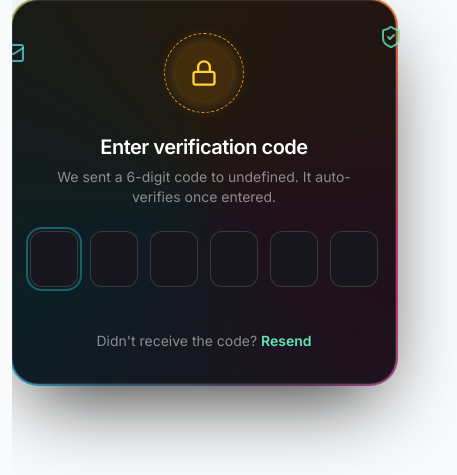
OtpVerification › shows the error message and resets boxes on a failed verify
The width and height of the screenshot is (457, 475).
Type "0" into the field named "Digit 1 of 6 verification code". click: (54, 259)
box: [30,231,78,287]
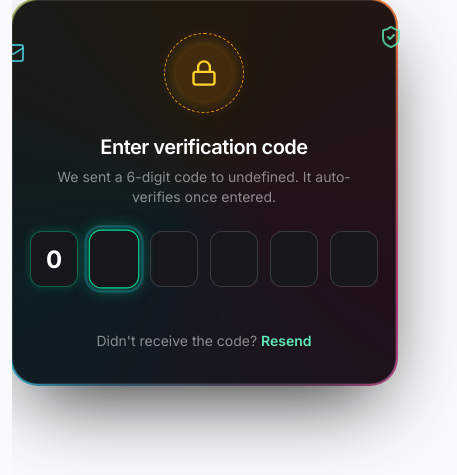
Type "0" into the field named "Digit 2 of 6 verification code". click: (114, 259)
box: [89,230,139,288]
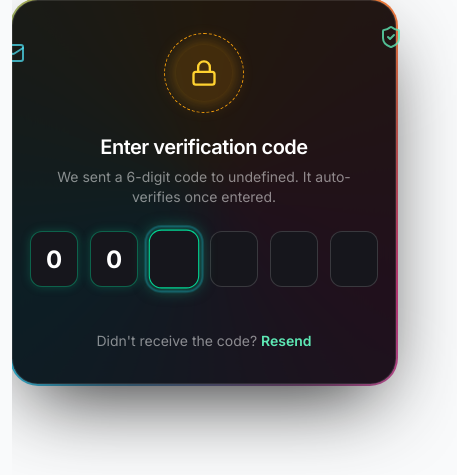
Type "0" into the field named "Digit 3 of 6 verification code". click: (174, 259)
box: [149,230,199,288]
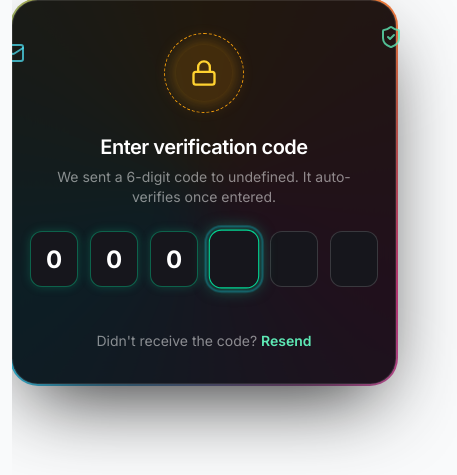
Type "0" into the field named "Digit 4 of 6 verification code". click: (234, 259)
box: [209,230,259,288]
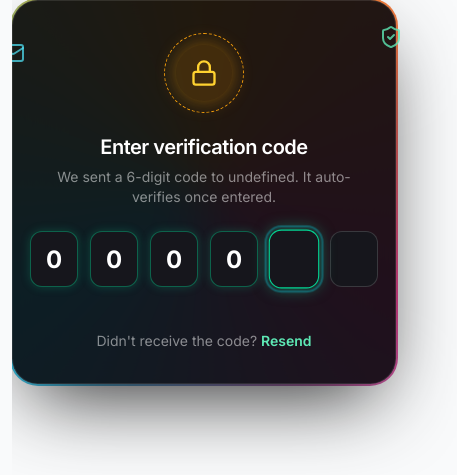
Type "0" into the field named "Digit 5 of 6 verification code". click: (294, 259)
box: [269,230,319,288]
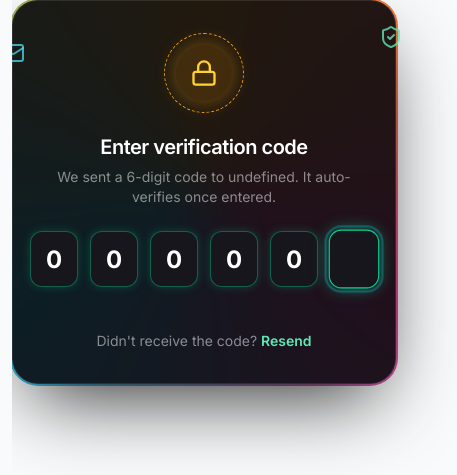
Type "0" into the field named "Digit 6 of 6 verification code". click: (354, 259)
box: [329,230,379,288]
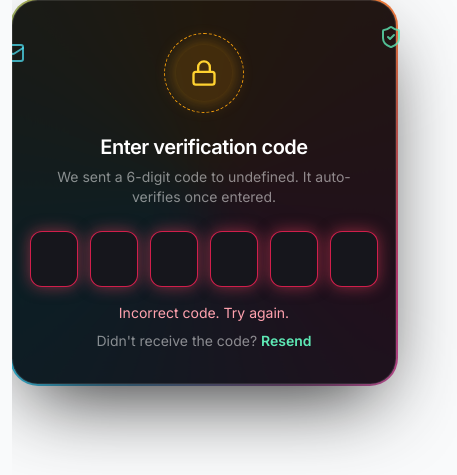
Check: the message shows "Incorrect code", box [119,304,289,321]
Check: the field named "Digit 1 of 6 verification code" is empty, box [30,231,78,287]
Check: the field named "Digit 2 of 6 verification code" is empty, box [90,231,138,287]
